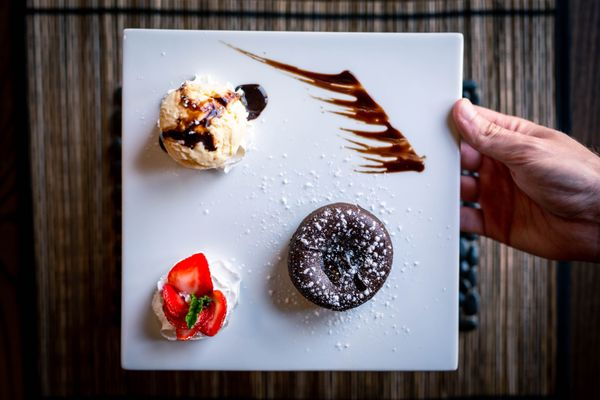burger: (220, 41, 425, 174)
